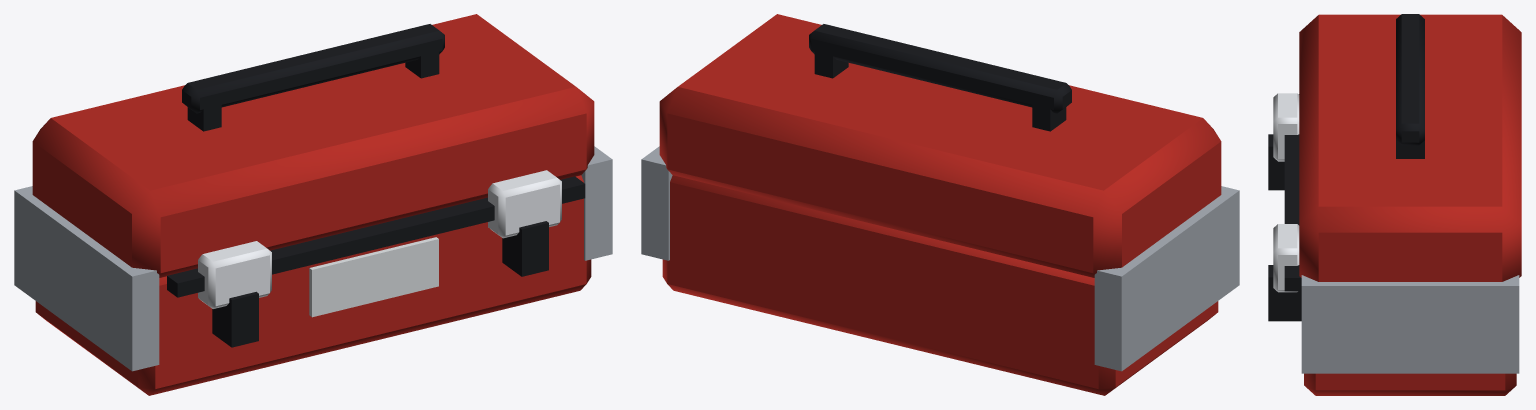
Rendered from storagebin_toolbox_portable.glb.
3 views of the same model, side by side, from view 1: azimuth 30°, elevation 25°; view 2: azimuth 150°, elevation 25°; view 3: azimuth 270°, elevation 25° (orthographic). The views are drawn at different scales.
Parts seen in each view (by area): view 1: storagebin_toolbox_portable; view 2: storagebin_toolbox_portable; view 3: storagebin_toolbox_portable.
Part boxes in pixels (x1=…): storagebin_toolbox_portable: x1=14, y1=14, x2=612, y2=395; storagebin_toolbox_portable: x1=641, y1=14, x2=1239, y2=395; storagebin_toolbox_portable: x1=1268, y1=14, x2=1521, y2=395.
Size of the model in its own units: 0.53 by 0.2625 by 0.262.
